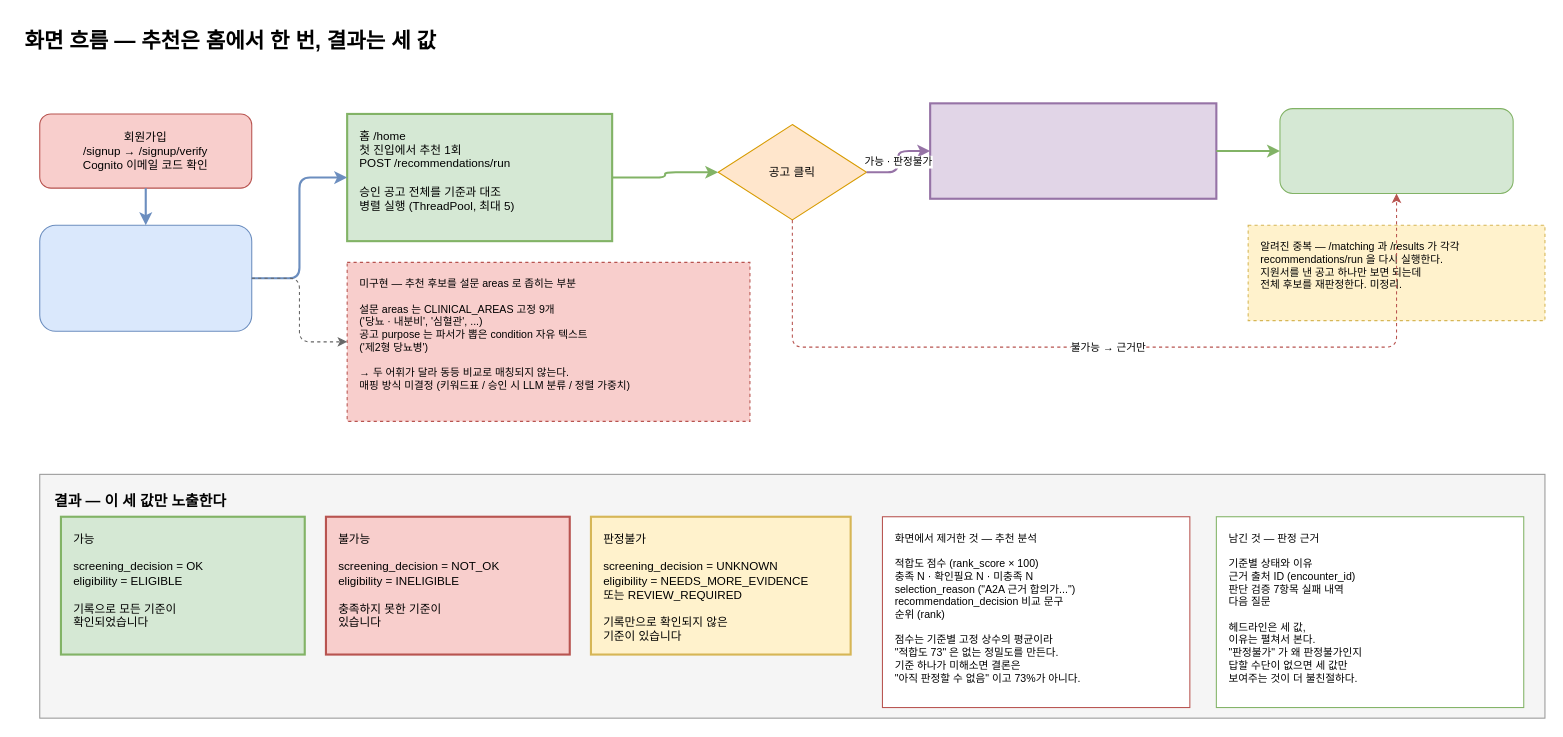
Image size: 1563x737. Some labels were removed from this diagram. The centre of each missing label's shape, as x and y in pixels:
"설문 4문항 /signup/survey purpose · areas(관심분야) medication · allergy" goes at [145,277].
"지원서 챗 /intake/:trialId 1단계 서술 → 2단계 재질문(최대 5회) 스키마 3층이 물을 항목을 정한다" goes at [1073,150].
"판정 실행 /matching → 결과 /results/:trialId" goes at [1396,150].
